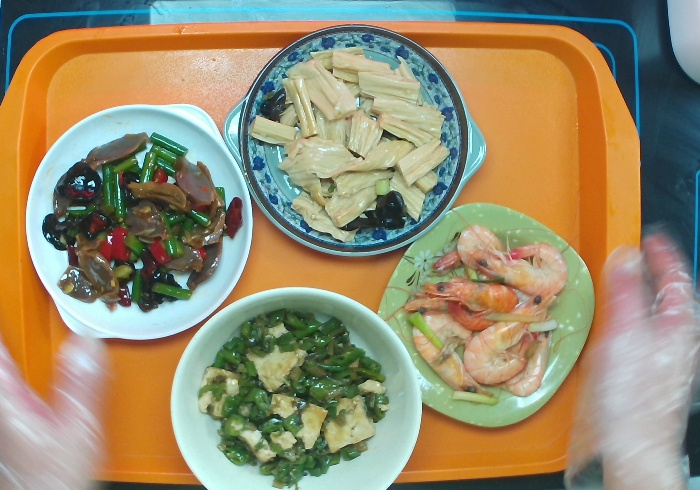NLDX-Bai_Se_Shuang_Er_Die: (24, 101, 256, 340)
NLDX-Bai_Se_Yuan_Wan: (172, 286, 422, 490)
NLDX-Lv_Hua_Fang_Die: (375, 204, 592, 427)
NLDX-Qing_Hua_Shuang_Er_Die: (221, 26, 488, 258)
